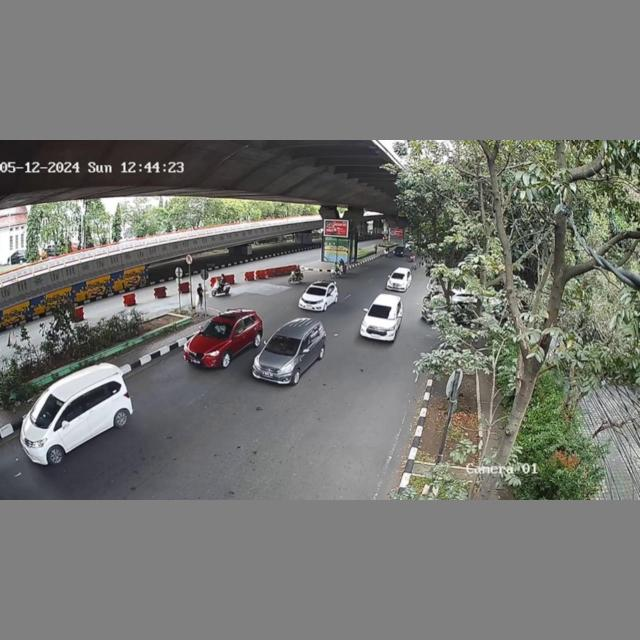windshield: (266, 333, 301, 358), (200, 319, 232, 339), (368, 303, 396, 320), (304, 284, 328, 297)
